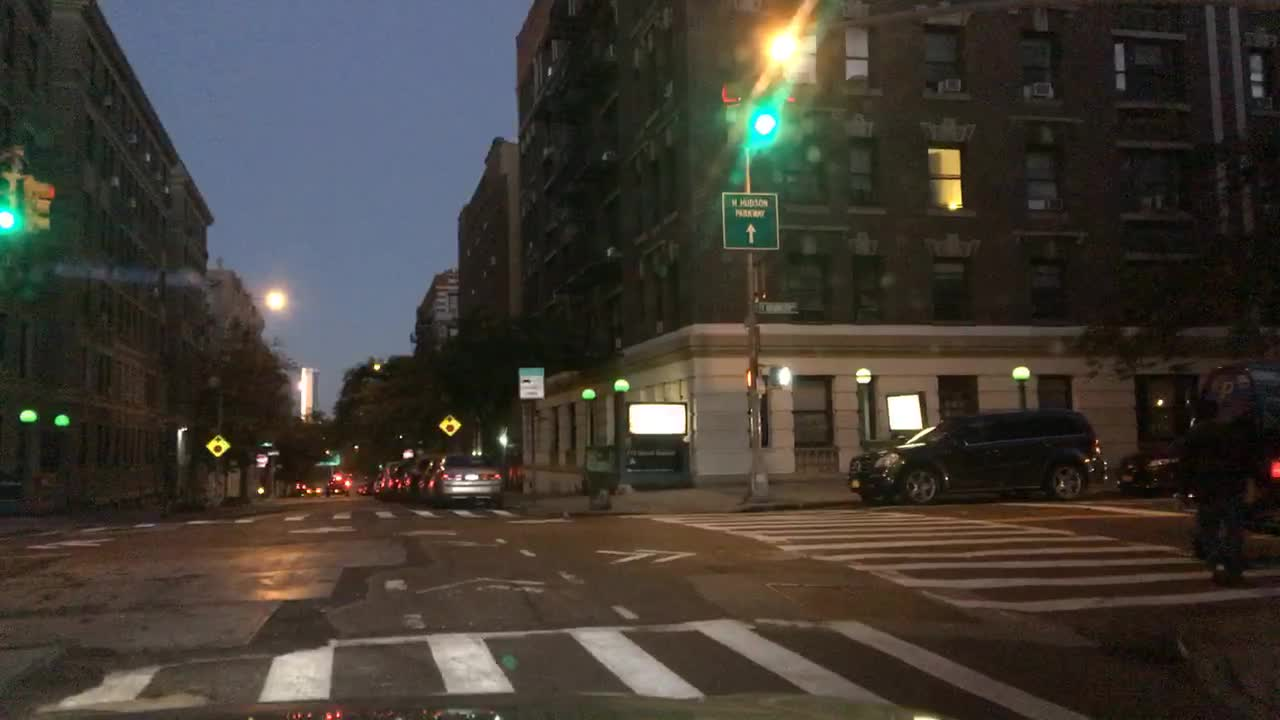car: (847, 405, 1107, 506), (1169, 356, 1277, 534), (1112, 431, 1189, 495), (424, 451, 505, 507), (394, 455, 433, 500), (385, 457, 418, 500), (412, 456, 441, 503), (379, 457, 404, 496), (324, 470, 352, 497), (370, 468, 384, 496), (355, 477, 374, 495), (293, 479, 310, 497), (305, 484, 322, 496)
person: (1177, 389, 1252, 585)
traffic light: (741, 89, 779, 149), (23, 174, 55, 235), (719, 83, 747, 141), (0, 173, 24, 232)
traffic sign: (719, 191, 778, 250), (518, 365, 545, 400), (751, 297, 800, 316), (204, 432, 232, 458), (436, 412, 463, 437), (314, 450, 339, 465), (254, 451, 268, 467), (401, 446, 414, 457), (256, 439, 272, 446), (266, 449, 279, 456)
